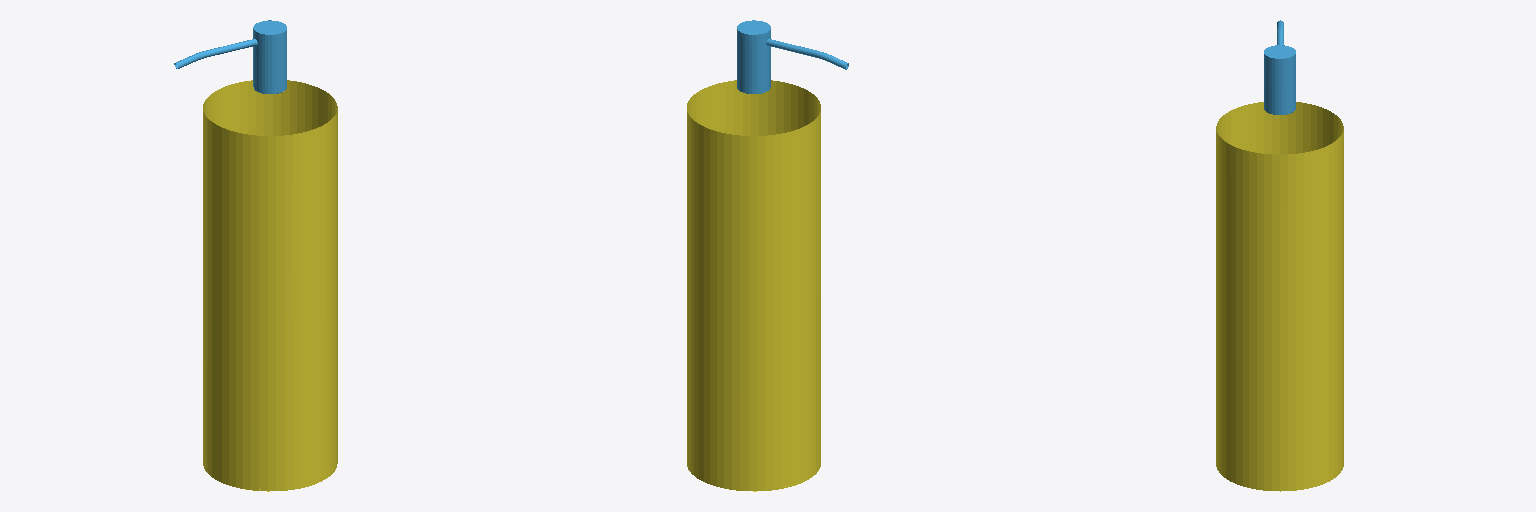
The robot description file, URDF, robot "partnet_50e0970b-a234-4c61-b3ff-b60265059b89-0":
<?xml version="1.0" ?>
<robot name="partnet_50e0970b-a234-4c61-b3ff-b60265059b89-0">
	<link name="base"/>
	<link name="link_0">
		<visual name="pressing_lid-1">
			<origin xyz="-0.0008138330884820463 0 0.00286446823294588"/>
			<geometry>
				<mesh filename="textured_objs/original-6.obj"/>
			</geometry>
		</visual>
		<visual name="pressing_lid-1">
			<origin xyz="-0.0008138330884820463 0 0.00286446823294588"/>
			<geometry>
				<mesh filename="textured_objs/original-4.obj"/>
			</geometry>
		</visual>
		<visual name="pressing_lid-1">
			<origin xyz="-0.0008138330884820463 0 0.00286446823294588"/>
			<geometry>
				<mesh filename="textured_objs/original-3.obj"/>
			</geometry>
		</visual>
		<collision>
			<origin xyz="-0.0008138330884820463 0 0.00286446823294588"/>
			<geometry>
				<mesh filename="textured_objs/original-6.obj"/>
			</geometry>
		</collision>
		<collision>
			<origin xyz="-0.0008138330884820463 0 0.00286446823294588"/>
			<geometry>
				<mesh filename="textured_objs/original-4.obj"/>
			</geometry>
		</collision>
		<collision>
			<origin xyz="-0.0008138330884820463 0 0.00286446823294588"/>
			<geometry>
				<mesh filename="textured_objs/original-3.obj"/>
			</geometry>
		</collision>
	</link>
	<joint name="joint_0" type="continuous">
		<origin xyz="0.0 0 0.0"/>
		<axis xyz="0 1 0"/>
		<child link="link_0"/>
		<parent link="link_0_helper"/>
	</joint>
	<link name="link_1">
		<visual name="head-3">
			<origin xyz="-0.0008138330884820463 0 0.00286446823294588"/>
			<geometry>
				<mesh filename="textured_objs/original-7.obj"/>
			</geometry>
		</visual>
		<collision>
			<origin xyz="-0.0008138330884820463 0 0.00286446823294588"/>
			<geometry>
				<mesh filename="textured_objs/original-7.obj"/>
			</geometry>
		</collision>
	</link>
	<joint name="joint_1" type="continuous">
		<origin xyz="0.0 0 0.0"/>
		<axis xyz="0 -1 0"/>
		<child link="link_1"/>
		<parent link="link_1_helper"/>
	</joint>
	<link name="link_2">
		<visual name="base_body-5">
			<origin xyz="0 0 0"/>
			<geometry>
				<mesh filename="textured_objs/original-9.obj"/>
			</geometry>
		</visual>
		<visual name="base_body-5">
			<origin xyz="0 0 0"/>
			<geometry>
				<mesh filename="textured_objs/original-11.obj"/>
			</geometry>
		</visual>
		<visual name="base_body-5">
			<origin xyz="0 0 0"/>
			<geometry>
				<mesh filename="textured_objs/original-10.obj"/>
			</geometry>
		</visual>
		<collision>
			<origin xyz="0 0 0"/>
			<geometry>
				<mesh filename="textured_objs/original-9.obj"/>
			</geometry>
		</collision>
		<collision>
			<origin xyz="0 0 0"/>
			<geometry>
				<mesh filename="textured_objs/original-11.obj"/>
			</geometry>
		</collision>
		<collision>
			<origin xyz="0 0 0"/>
			<geometry>
				<mesh filename="textured_objs/original-10.obj"/>
			</geometry>
		</collision>
	</link>
	<joint name="joint_2" type="fixed">
		<origin rpy="1.570796326794897 0 -1.570796326794897" xyz="0 0 0"/>
		<child link="link_2"/>
		<parent link="base"/>
	</joint>
	<link name="link_0_helper"/>
	<joint name="joint_3" type="prismatic">
		<origin xyz="0.0 0 0.0"/>
		<axis xyz="0 -1 0"/>
		<child link="link_0_helper"/>
		<parent link="link_1"/>
		<limit lower="0" upper="0.07"/>
	</joint>
	<link name="link_1_helper"/>
	<joint name="joint_4" type="prismatic">
		<origin xyz="0.0008138330884820463 0 -0.00286446823294588"/>
		<axis xyz="0 1 0"/>
		<child link="link_1_helper"/>
		<parent link="link_2"/>
		<limit lower="0" upper="0.02"/>
	</joint>
</robot>

--- Facts derived from the render (not from the file) ---
The picture shows the robot from 3 angles, left to right: view 1: azimuth 30°, elevation 25°; view 2: azimuth 150°, elevation 25°; view 3: azimuth 270°, elevation 25°; orthographic projection.
Robot: partnet_50e0970b-a234-4c61-b3ff-b60265059b89-0 — 6 links, 5 joints (2 continuous, 2 prismatic, 1 fixed); root link base; default pose: all joints at 0.
Links seen in each view (by area): view 1: link_2, link_0; view 2: link_2, link_0; view 3: link_2, link_0.
Boxes of the visible links, <box> form: link_2: <box>203,80,337,491</box>; link_0: <box>174,20,286,93</box>; link_2: <box>687,80,820,491</box>; link_0: <box>737,20,848,93</box>; link_2: <box>1216,102,1343,491</box>; link_0: <box>1264,20,1295,114</box>.
Size in the robot's own frame: 0.6344 by 0.4836 by 1.73 metres.
Meshes: 7 distinct files referenced, 4 mesh visuals loaded (4 OBJ); not drawn: 3 (reference not matched to a file when rendering).
